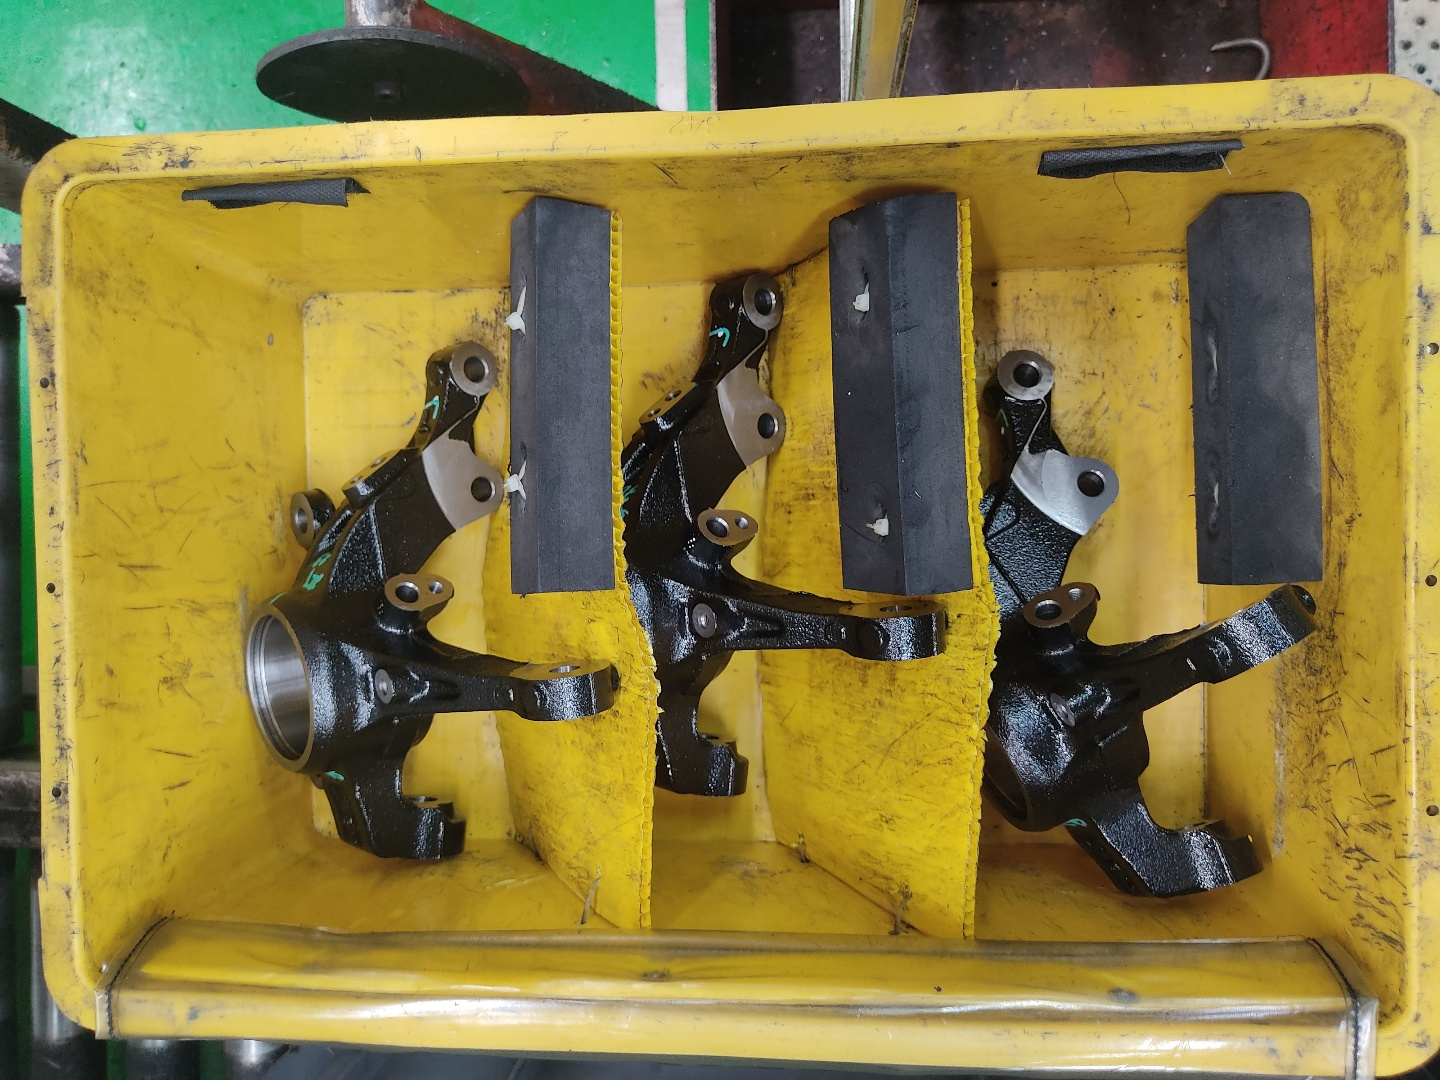abs-lh: (237, 334, 628, 867), (965, 338, 1325, 908), (625, 267, 954, 810)
